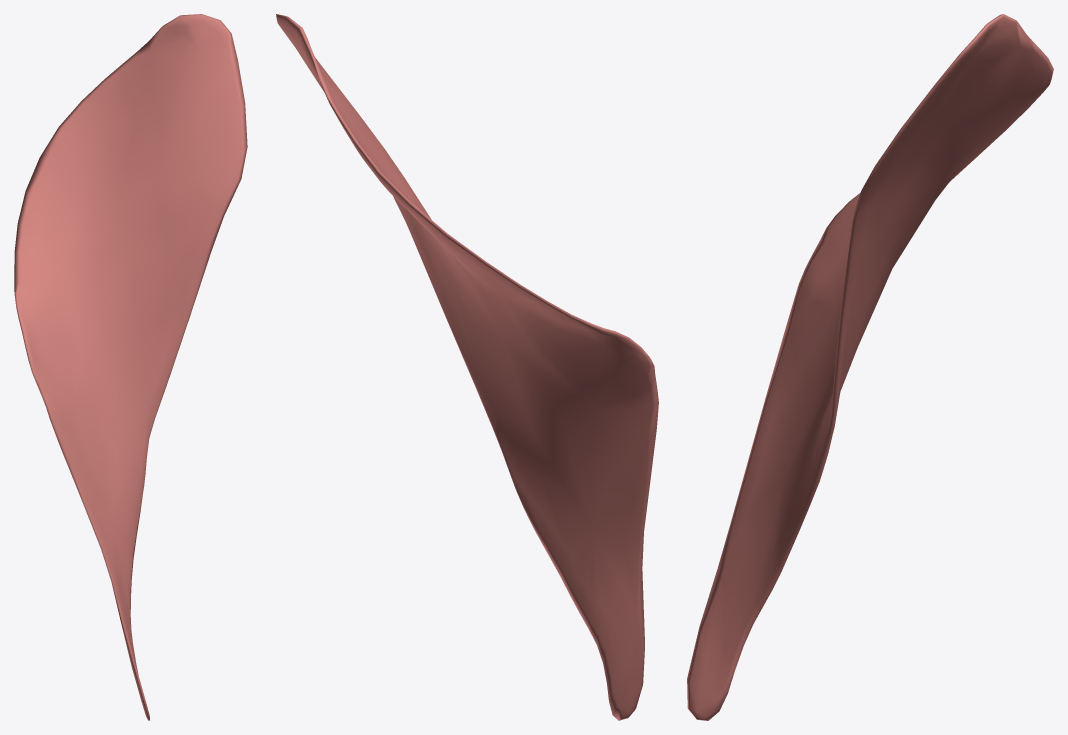
3 renders of one model, left to right at view 1: azimuth 30°, elevation 25°; view 2: azimuth 150°, elevation 25°; view 3: azimuth 270°, elevation 25°, orthographic. The views are drawn at different scales.
Visible parts, largest first — view 1: ZA_cc95e1879099724e; view 2: ZA_cc95e1879099724e; view 3: ZA_cc95e1879099724e.
Part boxes in pixels (x1=…): ZA_cc95e1879099724e: x1=14, y1=14, x2=247, y2=720; ZA_cc95e1879099724e: x1=276, y1=14, x2=658, y2=720; ZA_cc95e1879099724e: x1=687, y1=14, x2=1053, y2=720.
Bounding box in the file's own units: 0.0324 × 0.0738 × 0.0305.
